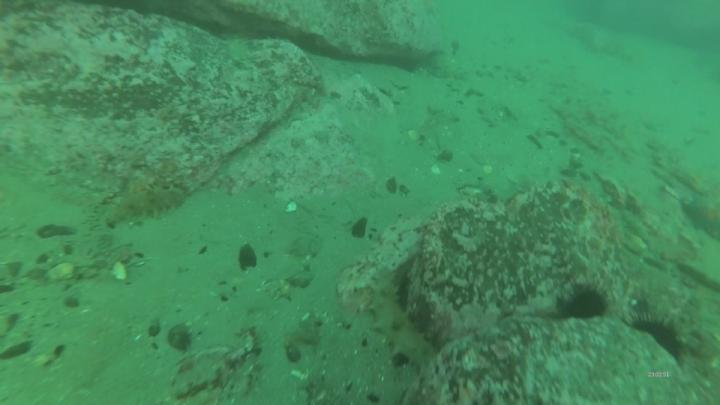echinus: (636, 320, 684, 361), (570, 290, 606, 319)
holothurian: (367, 271, 436, 374), (107, 189, 186, 221)
